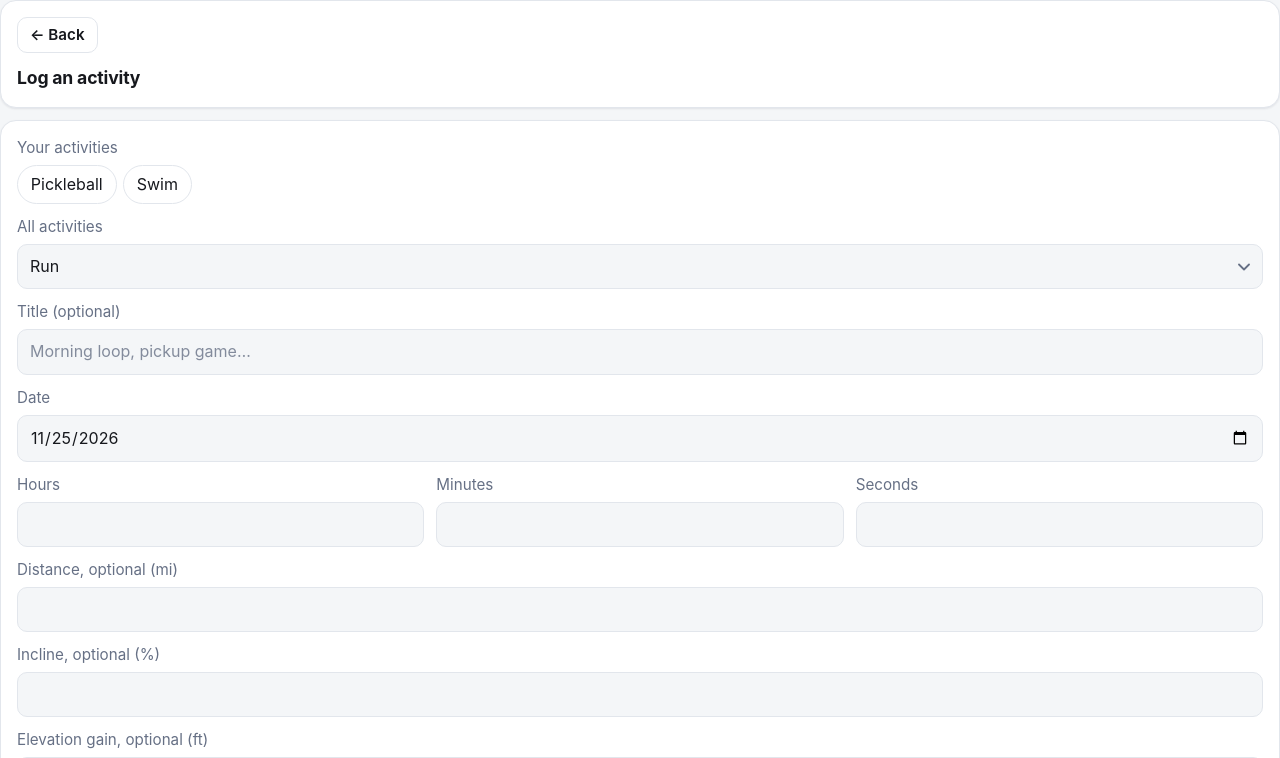
activity picker favorites › puts your activities first and keeps the full list
Check: the text "Your activities" is shown, box x1=17 y1=138 x2=118 y2=156
Click the button "Swim": (157, 184) x1=123 y1=164 x2=192 y2=204
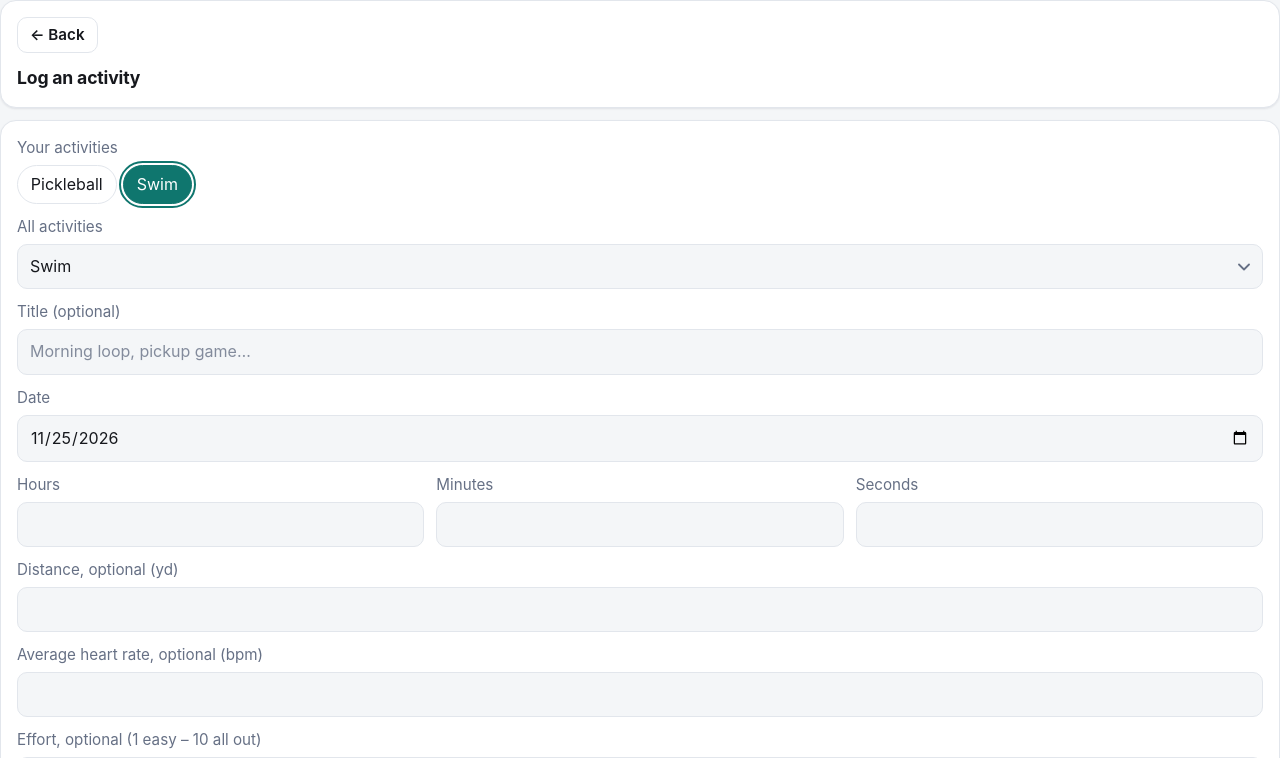
Check: the dropdown labelled "All activities" shows "Swim", box x1=17 y1=244 x2=1263 y2=289
